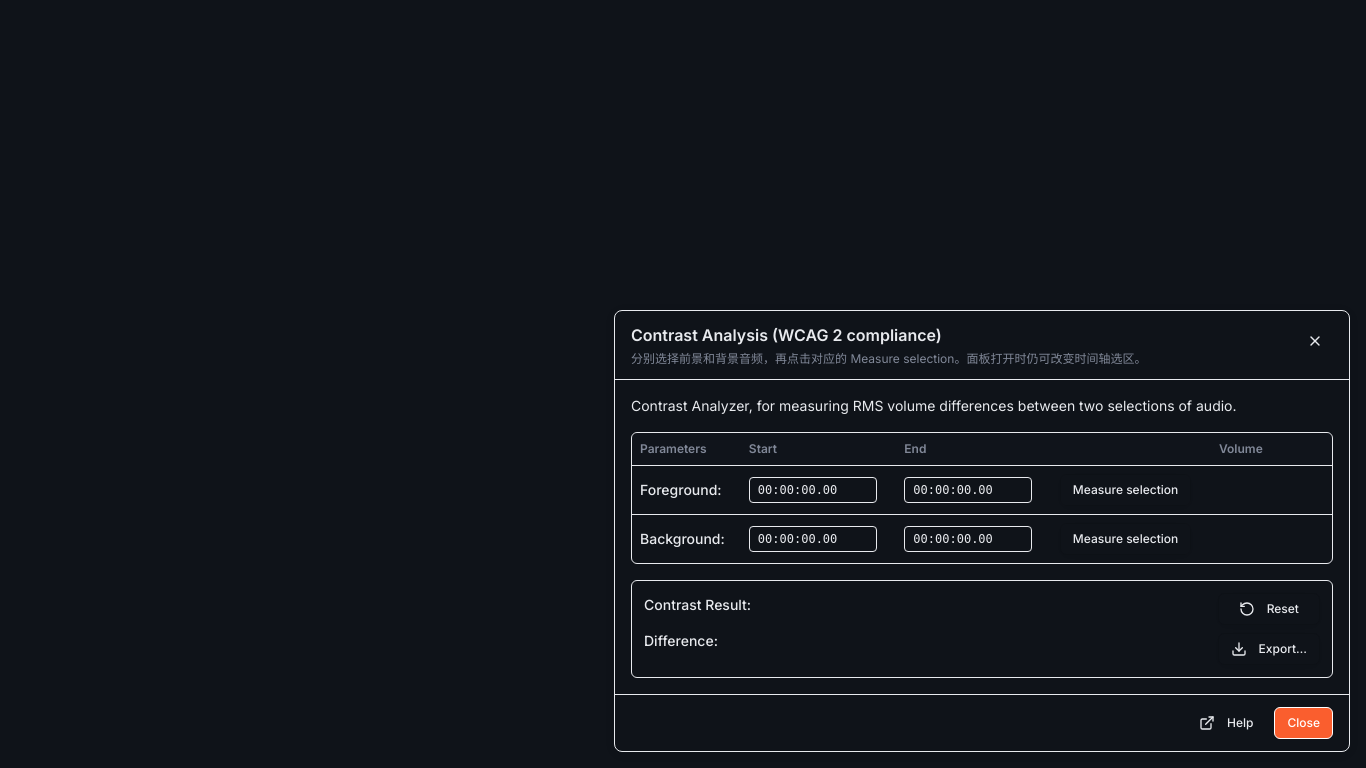
Test case: ContrastAnalysisDialog › reports a missing foreground when only the background has been measured
Click the button with aria-label "Measure background selection". click: (1126, 539)
box: [1060, 523, 1191, 555]
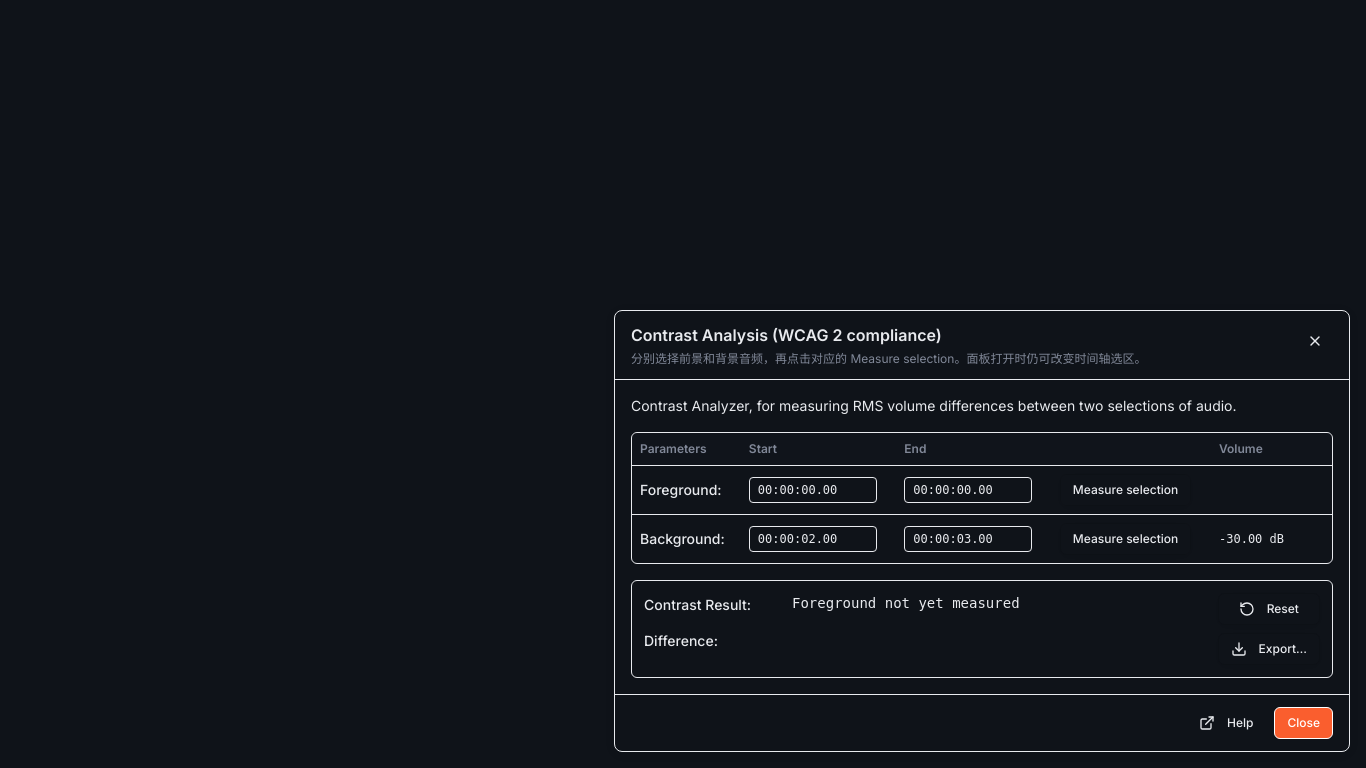
expect the text named "Background volume" reads "-30.00 dB": met, box [1219, 532, 1284, 546]
expect the text named "Contrast Result" reads "Foreground not yet measured": met, box [792, 595, 1020, 611]
